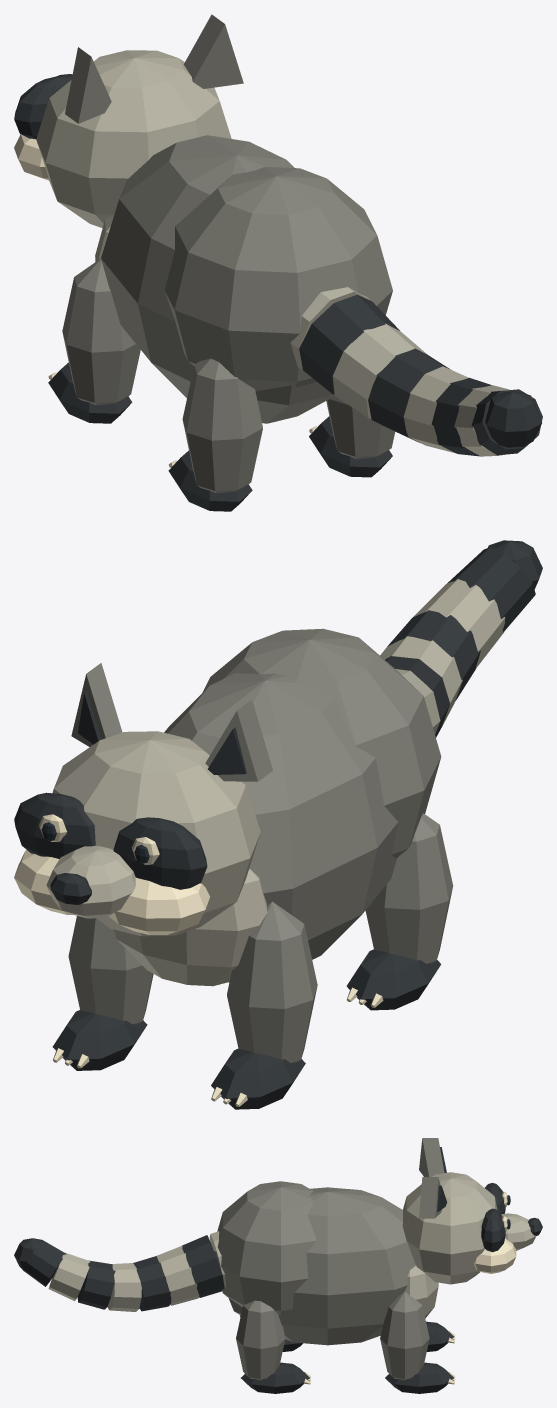
File: raccoon.glb
3 views of the same model, one above another, from view 1: azimuth 30°, elevation 25°; view 2: azimuth 150°, elevation 25°; view 3: azimuth 270°, elevation 25° (orthographic). The views are drawn at different scales.
Parts seen in each view (by area): view 1: Body, Head, Tail, HindLegL, LegL, HindLegR; view 2: Body, Head, LegL, Tail, HindLegL, LegR; view 3: Body, Head, Tail, LegR, HindLegR, LegL.
Part boxes in pixels (x1,y1,x2,y2): Body: (95, 135, 392, 423); Head: (14, 14, 243, 227); Tail: (290, 287, 542, 456); HindLegL: (168, 358, 262, 511); LegL: (48, 258, 140, 423); HindLegR: (309, 396, 394, 477); Body: (114, 628, 441, 986); Head: (14, 663, 272, 936); LegL: (211, 901, 317, 1109); Tail: (380, 540, 542, 737); HindLegL: (346, 813, 453, 1010); LegR: (52, 916, 153, 1070); Body: (214, 1181, 438, 1345); Head: (402, 1138, 542, 1284); Tail: (14, 1231, 225, 1311); LegR: (380, 1291, 455, 1393); HindLegR: (236, 1300, 310, 1393); LegL: (426, 1321, 455, 1351).
Size of the model in its own units: 0.44 by 0.703 by 1.58.
